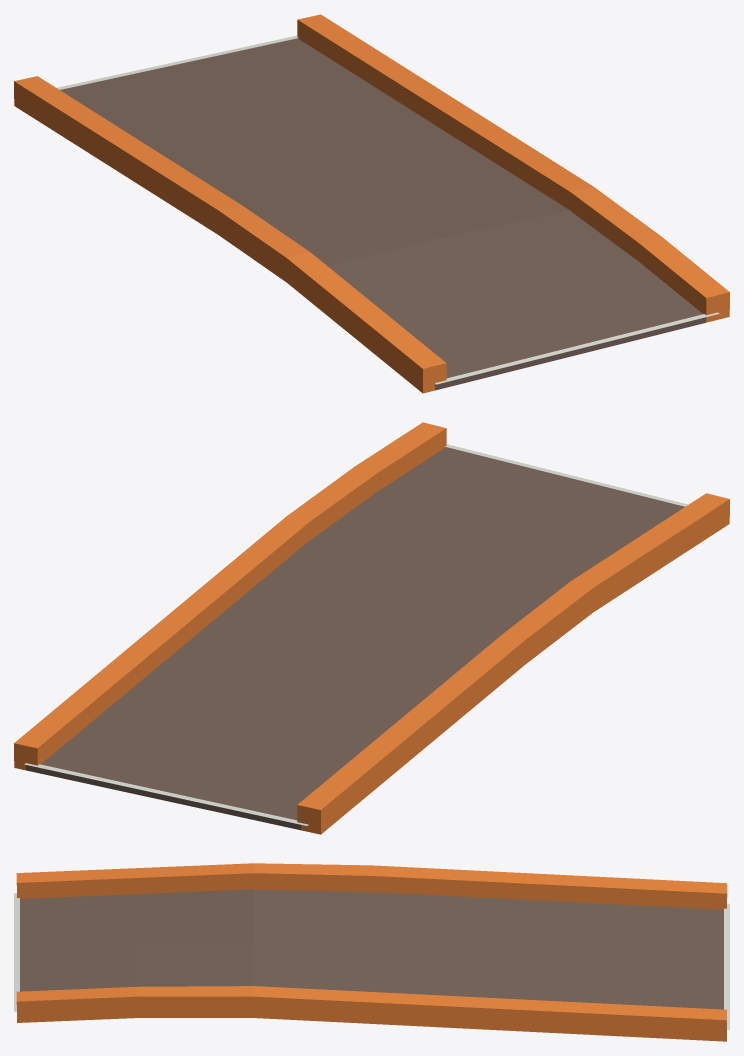
File: SM_MP_Film_C_1_0.fbx
The picture shows the model from 3 angles, top to bottom: view 1: azimuth 30°, elevation 25°; view 2: azimuth 150°, elevation 25°; view 3: azimuth 270°, elevation 25°; orthographic projection. The views are drawn at different scales.
Visible parts, largest first — view 1: SM_MP_Film_C_1_0; view 2: SM_MP_Film_C_1_0; view 3: SM_MP_Film_C_1_0.
Boxes of the visible parts, x1,y1,x2,y2 form: SM_MP_Film_C_1_0: [14, 14, 729, 393]; SM_MP_Film_C_1_0: [14, 422, 729, 834]; SM_MP_Film_C_1_0: [14, 863, 729, 1041].
Size of what is drawn, in the model's own units: 260 by 605 by 45.18.
